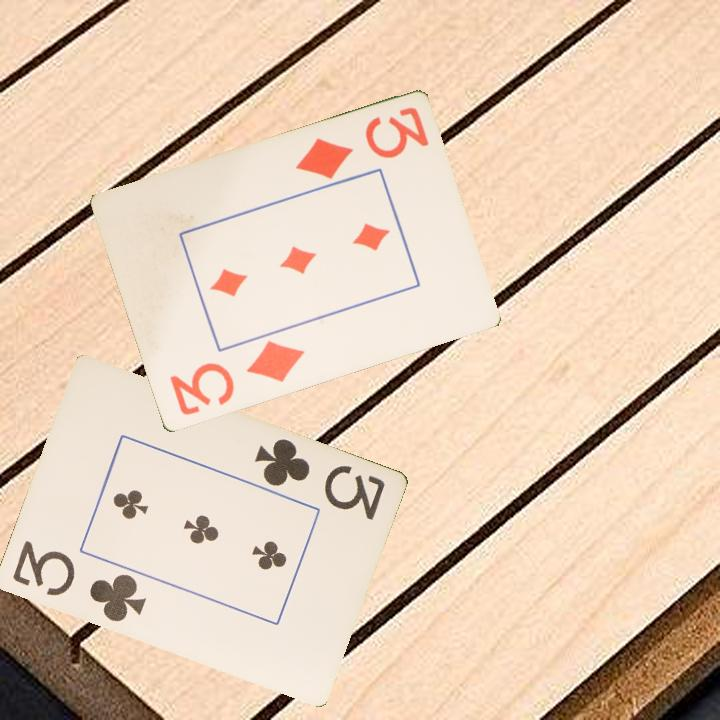3c: (8, 537, 149, 625), (250, 435, 388, 524)
3d: (165, 337, 307, 419), (291, 104, 432, 183)
